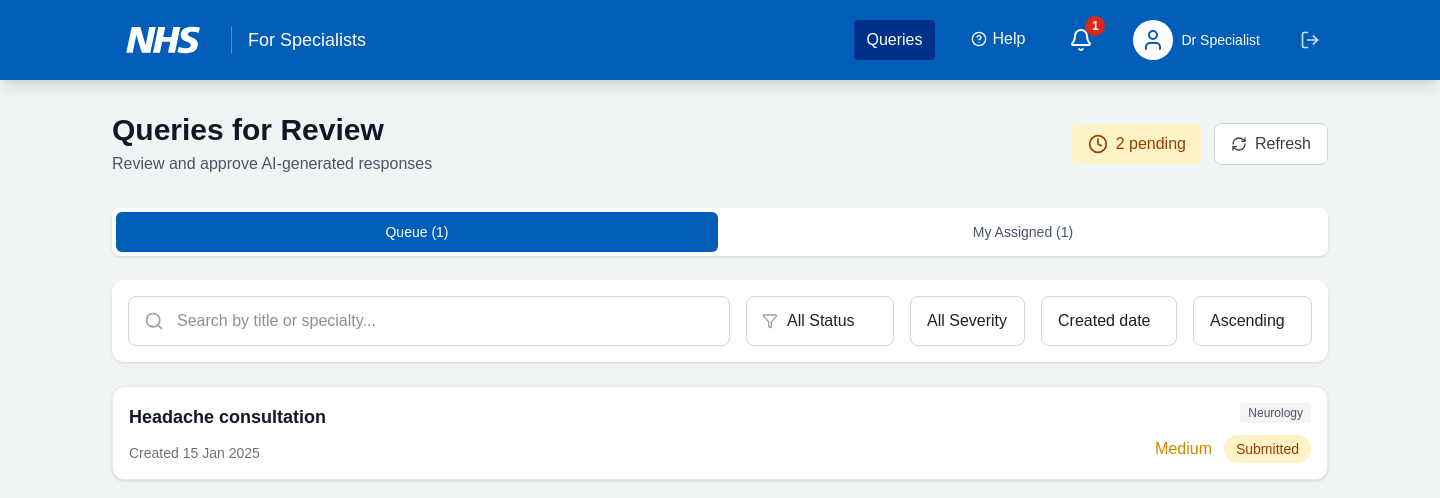
Test case: SpecialistQueriesPage › switches between Queue and Assigned tabs
Expected: the heading "Headache consultation" is shown, [129,407,326,427]
# Click on "My Assigned" tab
Click the button "My Assigned (1)". click: x=1023, y=232
box: [722,212,1324,252]
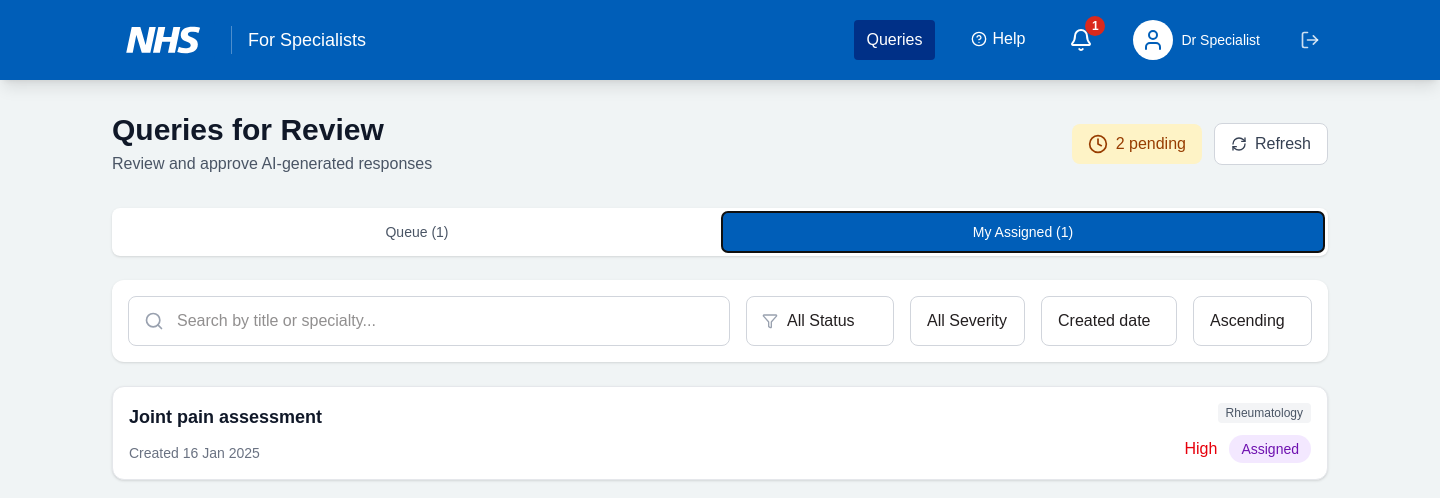
Now the heading "Joint pain assessment" is shown, box [129,407,322,427]
